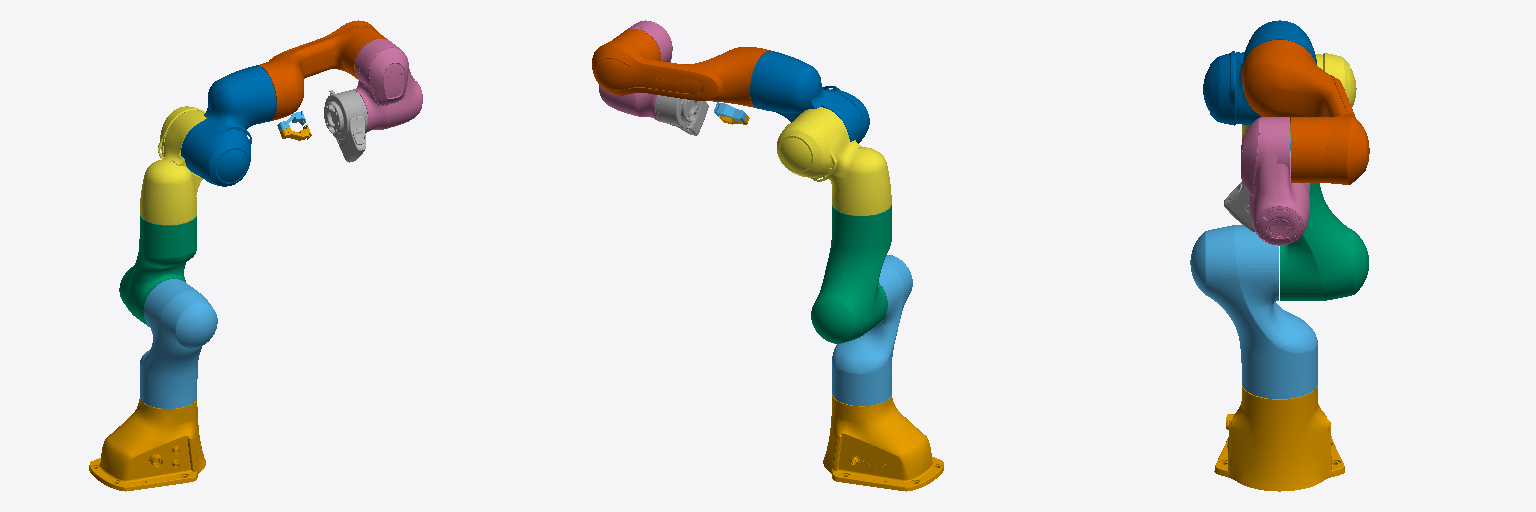
URDF robot description (panda_hand):
<?xml version='1.0' encoding='utf-8'?>
<robot name="panda_hand">

    <link name="link0">
        <inertial>
            <origin xyz="0 0 0.05" rpy="0 0 0" />
            <mass value="4" />
            <inertia ixx="0.4" iyy="0.4" izz="0.4" ixy="0" ixz="0" iyz="0" />
        </inertial>
        <visual>
            <geometry>
                <mesh filename="graphics/link0.obj" />
            </geometry>
        </visual>
        <collision>
            <geometry>
                <mesh filename="collision/link0.stl" />
            </geometry>
        </collision>
    </link>
    <link name="link1">
        <inertial>
            <origin xyz="0 0 -0.07" rpy="0 0 0" />
            <mass value="3" />
            <inertia ixx="0.3" iyy="0.3" izz="0.3" ixy="0" ixz="0" iyz="0" />
        </inertial>
        <visual>
            <geometry>
                <mesh filename="graphics/link1.obj" />
            </geometry>
        </visual>
        <collision>
            <geometry>
                <mesh filename="collision/link1.stl" />
            </geometry>
        </collision>
    </link>
    <link name="link2">
        <inertial>
            <origin xyz="0 -0.1 0" rpy="0 0 0" />
            <mass value="3" />
            <inertia ixx="0.3" iyy="0.3" izz="0.3" ixy="0" ixz="0" iyz="0" />
        </inertial>
        <visual>
            <geometry>
                <mesh filename="graphics/link2.obj" />
            </geometry>
        </visual>
        <collision>
            <geometry>
                <mesh filename="collision/link2.stl" />
            </geometry>
        </collision>
    </link>
    <link name="link3">
        <inertial>
            <origin xyz="0.04 0 -0.05" rpy="0 0 0" />
            <mass value="2" />
            <inertia ixx="0.2" iyy="0.2" izz="0.2" ixy="0" ixz="0" iyz="0" />
        </inertial>
        <visual>
            <geometry>
                <mesh filename="graphics/link3.obj" />
            </geometry>
        </visual>
        <collision>
            <geometry>
                <mesh filename="collision/link3.stl" />
            </geometry>
        </collision>
    </link>
    <link name="link4">
        <inertial>
            <origin xyz="-0.04 0.05 0" rpy="0 0 0" />
            <mass value="2" />
            <inertia ixx="0.2" iyy="0.2" izz="0.2" ixy="0" ixz="0" iyz="0" />
        </inertial>
        <visual>
            <geometry>
                <mesh filename="graphics/link4.obj" />
            </geometry>
        </visual>
        <collision>
            <geometry>
                <mesh filename="collision/link4.stl" />
            </geometry>
        </collision>
    </link>
    <link name="link5">
        <inertial>
            <origin xyz="0 0 -0.15" rpy="0 0 0" />
            <mass value="2" />
            <inertia ixx="0.2" iyy="0.2" izz="0.2" ixy="0" ixz="0" iyz="0" />
        </inertial>
        <visual>
            <geometry>
                <mesh filename="graphics/link5.obj" />
            </geometry>
        </visual>
        <collision>
            <geometry>
                <mesh filename="collision/link5.stl" />
            </geometry>
        </collision>
    </link>
    <link name="link6">
        <inertial>
            <origin xyz="0.06 0 0" rpy="0 0 0" />
            <mass value="1.5" />
            <inertia ixx="0.1" iyy="0.1" izz="0.1" ixy="0" ixz="0" iyz="0" />
        </inertial>
        <visual>
            <geometry>
                <mesh filename="graphics/link6.obj" />
            </geometry>
        </visual>
        <collision>
            <geometry>
                <mesh filename="collision/link6.stl" />
            </geometry>
        </collision>
    </link>
    <link name="link7">
        <inertial>
            <origin xyz="0 0 0.08" rpy="0 0 0" />
            <mass value="0.5" />
            <inertia ixx="0.05" iyy="0.05" izz="0.05" ixy="0" ixz="0" iyz="0" />
        </inertial>
        <visual>
            <origin xyz="0 0 0" rpy="0 0 0" />
            <geometry>
                <mesh filename="graphics/link7.obj" />
            </geometry>
        </visual>
        <collision>
            <geometry>
                <mesh filename="collision/link7.stl" />
            </geometry>
        </collision>
    </link>
    <link name="leftfinger">
        <inertial>
            <origin xyz="0 0 0.05" rpy="0 -0 0" />
            <mass value="0.1" />
            <inertia ixx="0.01" iyy="0.01" izz="0.005" ixy="0" ixz="0" iyz="0" />
        </inertial>
        <visual>
            <geometry>
                <mesh filename="graphics/finger.obj" />
            </geometry>
        </visual>
        <collision>
            <geometry>
                <mesh filename="collision/finger.stl" />
            </geometry>
        </collision>
    </link>
    <link name="rightfinger">
        <inertial>
            <origin xyz="0 0 0.05" rpy="0 -0 0" />
            <mass value="0.1" />
            <inertia ixx="0.01" iyy="0.01" izz="0.005" ixy="0" ixz="0" iyz="0" />
        </inertial>
        <visual>
            <origin xyz="0 0 0" rpy="0 0 3.14159265359" />
            <geometry>
                <mesh filename="graphics/finger.obj" />
            </geometry>
        </visual>
        <collision>
            <origin xyz="0 0 0" rpy="0 0 3.14159265359" />
            <geometry>
                <mesh filename="collision/finger.stl" />
            </geometry>
        </collision>
    </link>

	<joint name="joint1" type="revolute">
		<safety_controller k_position="100.0" k_velocity="40.0" soft_lower_limit="-2.8973" soft_upper_limit="2.8973" />
		<origin rpy="0 0 0" xyz="0 0 0.333" />
		<parent link="link0" />
		<child link="link1" />
		<axis xyz="0 0 1" />
		<dynamics damping="1" friction="0" coulomb="0.5" />
		<limit effort="87" lower="-2.8973" upper="2.8973" velocity="2.1750" />
	</joint>
	<joint name="joint2" type="revolute">
		<safety_controller k_position="100.0" k_velocity="40.0" soft_lower_limit="-1.7628" soft_upper_limit="1.7628" />
		<origin rpy="-1.57079632679 0 0" xyz="0 0 0" />
		<parent link="link1" />
		<child link="link2" />
		<axis xyz="0 0 1" />
		<dynamics damping="1" friction="0" coulomb="0.5" />
		<calibration falling="-45.0" />
		<limit effort="87" lower="-1.7628" upper="1.7628" velocity="2.1750" />
	</joint>
	<joint name="joint3" type="revolute">
		<safety_controller k_position="100.0" k_velocity="40.0" soft_lower_limit="-2.8973" soft_upper_limit="2.8973" />
		<origin rpy="1.57079632679 0 0" xyz="0 -0.316 0" />
		<parent link="link2" />
		<child link="link3" />
		<axis xyz="0 0 1" />
		<dynamics damping="1" friction="0" coulomb="0.5" />
		<limit effort="87" lower="-2.8973" upper="2.8973" velocity="2.1750" />
	</joint>
	<joint name="joint4" type="revolute">
		<safety_controller k_position="100.0" k_velocity="40.0" soft_lower_limit="-3.0718" soft_upper_limit="-0.0698" />
		<origin rpy="1.57079632679 0 0" xyz="0.0825 0 0" />
		<parent link="link3" />
		<child link="link4" />
		<axis xyz="0 0 1" />
		<dynamics damping="1" friction="0" coulomb="0.5" />
		<calibration falling="-125.0" />
		<limit effort="87" lower="-3.0718" upper="-0.0698" velocity="2.1750" />
	</joint>
	<joint name="joint5" type="revolute">
		<safety_controller k_position="100.0" k_velocity="40.0" soft_lower_limit="-2.8973" soft_upper_limit="2.8973" />
		<origin rpy="-1.57079632679 0 0" xyz="-0.0825 0.384 0" />
		<parent link="link4" />
		<child link="link5" />
		<axis xyz="0 0 1" />
		<dynamics damping="1" friction="0" coulomb="0.5" />
		<limit effort="12" lower="-2.8973" upper="2.8973" velocity="2.6100" />
	</joint>
	<joint name="joint6" type="revolute">
		<safety_controller k_position="100.0" k_velocity="40.0" soft_lower_limit="-0.0175" soft_upper_limit="3.7525" />
		<origin rpy="1.57079632679 0 0" xyz="0 0 0" />
		<parent link="link5" />
		<child link="link6" />
		<axis xyz="0 0 1" />
		<dynamics damping="1" friction="0" coulomb="0.5" />
		<calibration falling="80.0" />
		<limit effort="12" lower="-0.0175" upper="3.7525" velocity="2.6100" />
	</joint>
	<joint name="joint7" type="revolute">
		<safety_controller k_position="100.0" k_velocity="40.0" soft_lower_limit="-2.8973" soft_upper_limit="2.8973" />
		<origin rpy="1.57079632679 0 0" xyz="0.088 0 0" />
		<parent link="link6" />
		<child link="link7" />
		<axis xyz="0 0 1" />
		<dynamics damping="1" friction="0" coulomb="0.5" />
		<limit effort="12" lower="-2.8973" upper="2.8973" velocity="2.6100" />
	</joint>
    <joint name="finger_joint1" type="prismatic">
        <parent link="link7" />
        <child link="leftfinger" />
        <origin xyz="0 0 0.1654" rpy="0 0 -0.78539816339" />
        <axis xyz="0 1 0" />
        <calibration rising="0.02" />
        <limit effort="20" lower="0.0" upper="0.04" velocity="0.2" />
    </joint>
    <joint name="finger_joint2" type="prismatic">
        <parent link="link7" />
        <child link="rightfinger" />
        <origin xyz="0 0 0.1654" rpy="0 0 -0.78539816339" />
        <axis xyz="0 1 0" />
        <calibration rising="-0.02" />
        <limit effort="20" lower="0.0" upper="0.04" velocity="0.2" />
        <mimic joint="finger_joint1" />
    </joint>

</robot>

--- Facts derived from the render (not from the file) ---
The picture shows the robot from 3 angles, left to right: view 1: azimuth 30°, elevation 25°; view 2: azimuth 150°, elevation 25°; view 3: azimuth 270°, elevation 25°; orthographic projection.
Model panda_hand with 10 links and 9 joints (7 revolute, 2 prismatic), rooted at link0, posed joints at zero except 1 at the middle of their limits (joint4 = -1.57).
Visible links, largest first — view 1: link0, link1, link4, link3, link5, link6, link2, link7; view 2: link0, link5, link2, link3, link1, link4, link6, link7; view 3: link1, link5, link0, link2, link6, link4, link3, link7.
Boxes of the visible links, x1,y1,x2,y2 form: link0: (89,399,205,491); link1: (140,279,217,408); link4: (181,66,276,186); link3: (140,106,206,224); link5: (256,20,387,121); link6: (353,39,422,133); link2: (119,216,196,326); link7: (324,90,367,162); link0: (823,395,943,491); link5: (592,29,770,107); link2: (811,205,891,343); link3: (777,107,891,215); link1: (832,255,912,405); link4: (750,51,869,143); link6: (599,20,672,121); link7: (655,95,708,135); link1: (1190,225,1317,398); link5: (1242,40,1369,184); link0: (1214,385,1344,491); link2: (1280,183,1368,300); link6: (1241,117,1309,245); link4: (1203,20,1316,125); link3: (1242,53,1356,137); link7: (1224,151,1309,231).
Bounding box of the posed robot: 0.7022 × 0.2593 × 0.7865 m (x, y, z).
10 mesh visuals loaded from 9 distinct referenced files (9 OBJ).